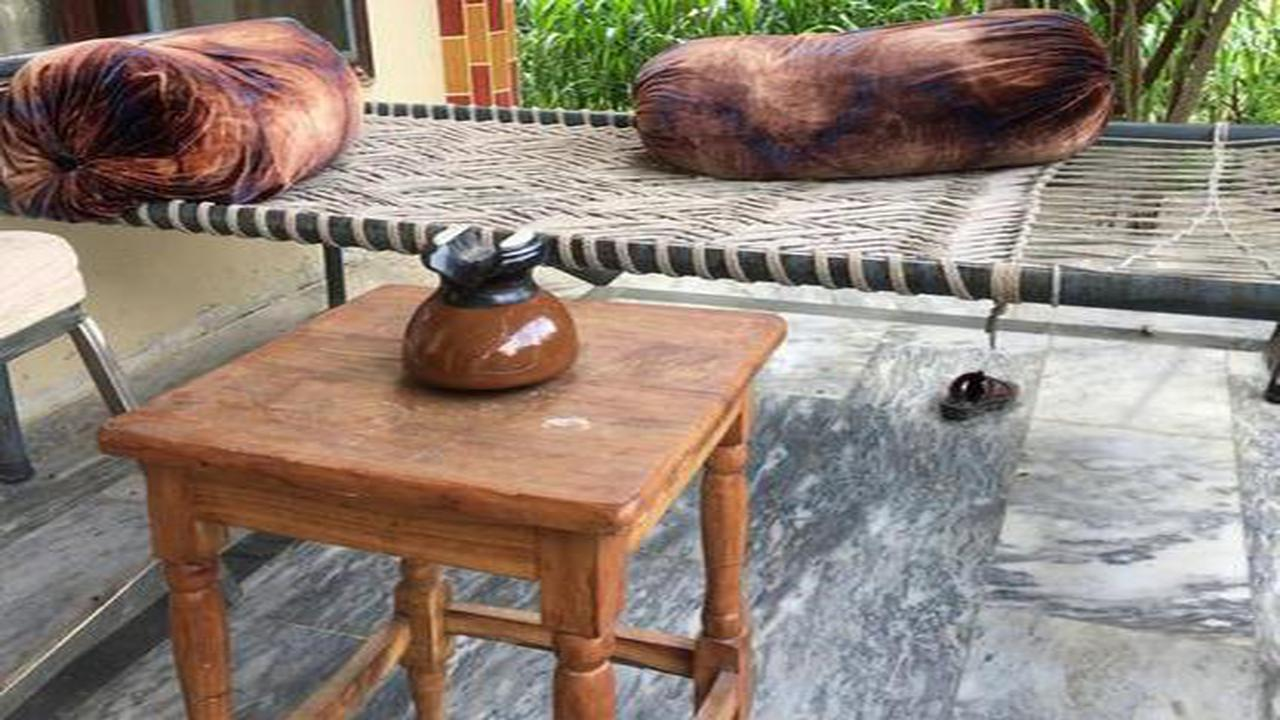insulator_pin: (379, 196, 601, 411)
